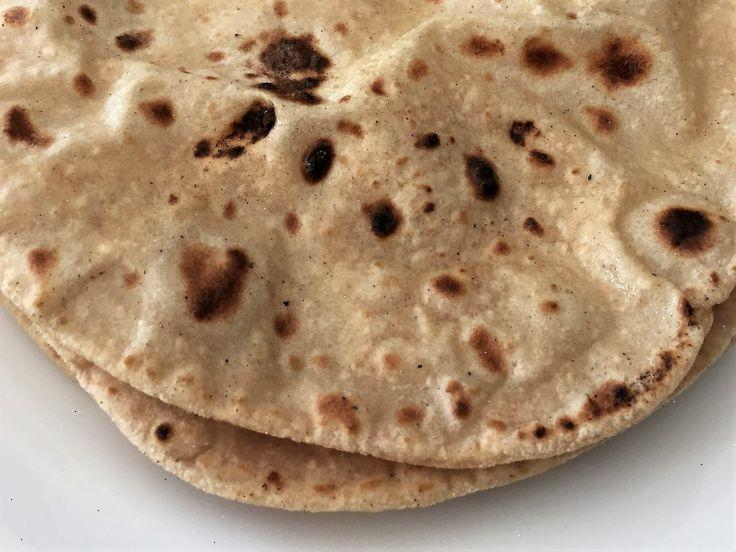roti phulka: (2, 5, 736, 454)
